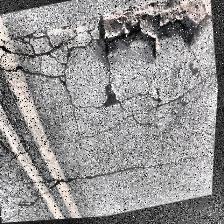pothole: (86, 1, 218, 76)
